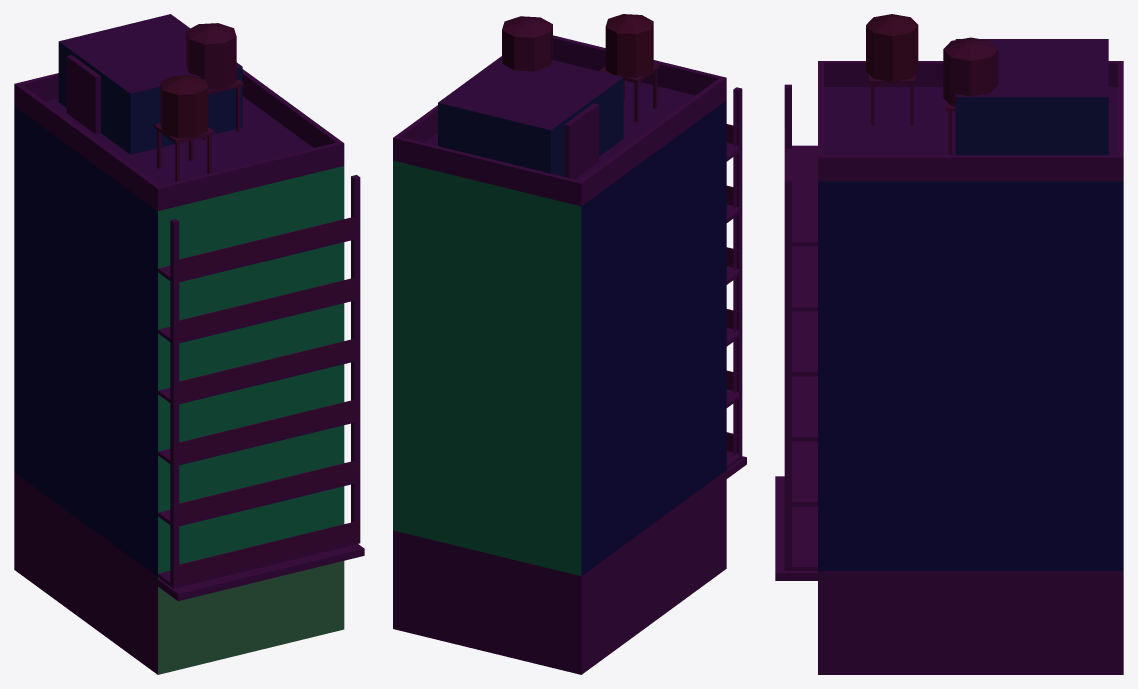
File: walkup_a.lod1.glb
3 views of the same model, side by side, from view 1: azimuth 30°, elevation 25°; view 2: azimuth 150°, elevation 25°; view 3: azimuth 270°, elevation 25° (orthographic). The views are drawn at different scales.
Visible parts, largest first — view 1: walkup_a.lod1; view 2: walkup_a.lod1; view 3: walkup_a.lod1.
Boxes of the visible parts, box(x1,y1,x2,y2) form: walkup_a.lod1: box(14, 14, 364, 674); walkup_a.lod1: box(393, 14, 746, 674); walkup_a.lod1: box(775, 14, 1123, 674).
Size of the model in its own units: 9.6 by 27.74 by 14.6.
